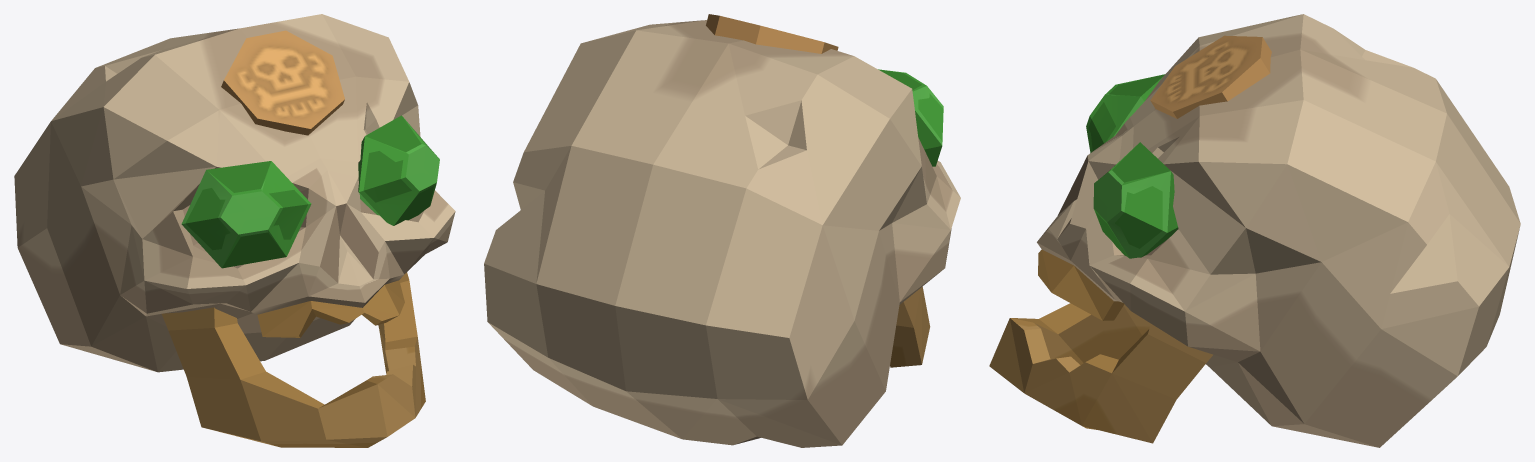
The model's file is SM_Prop_Treasure_Skull_02.fbx.
3 renders of one model, left to right at view 1: azimuth 30°, elevation 25°; view 2: azimuth 150°, elevation 25°; view 3: azimuth 270°, elevation 25°, orthographic. The views are drawn at different scales.
Visible parts, largest first — view 1: SM_Prop_Treasure_Skull_02; view 2: SM_Prop_Treasure_Skull_02; view 3: SM_Prop_Treasure_Skull_02.
Part boxes in pixels (bbox=[...]): SM_Prop_Treasure_Skull_02: bbox=[14, 14, 455, 447]; SM_Prop_Treasure_Skull_02: bbox=[484, 14, 960, 447]; SM_Prop_Treasure_Skull_02: bbox=[989, 14, 1520, 447].
Size of the model in its own units: 21.47 by 22.59 by 30.36.
